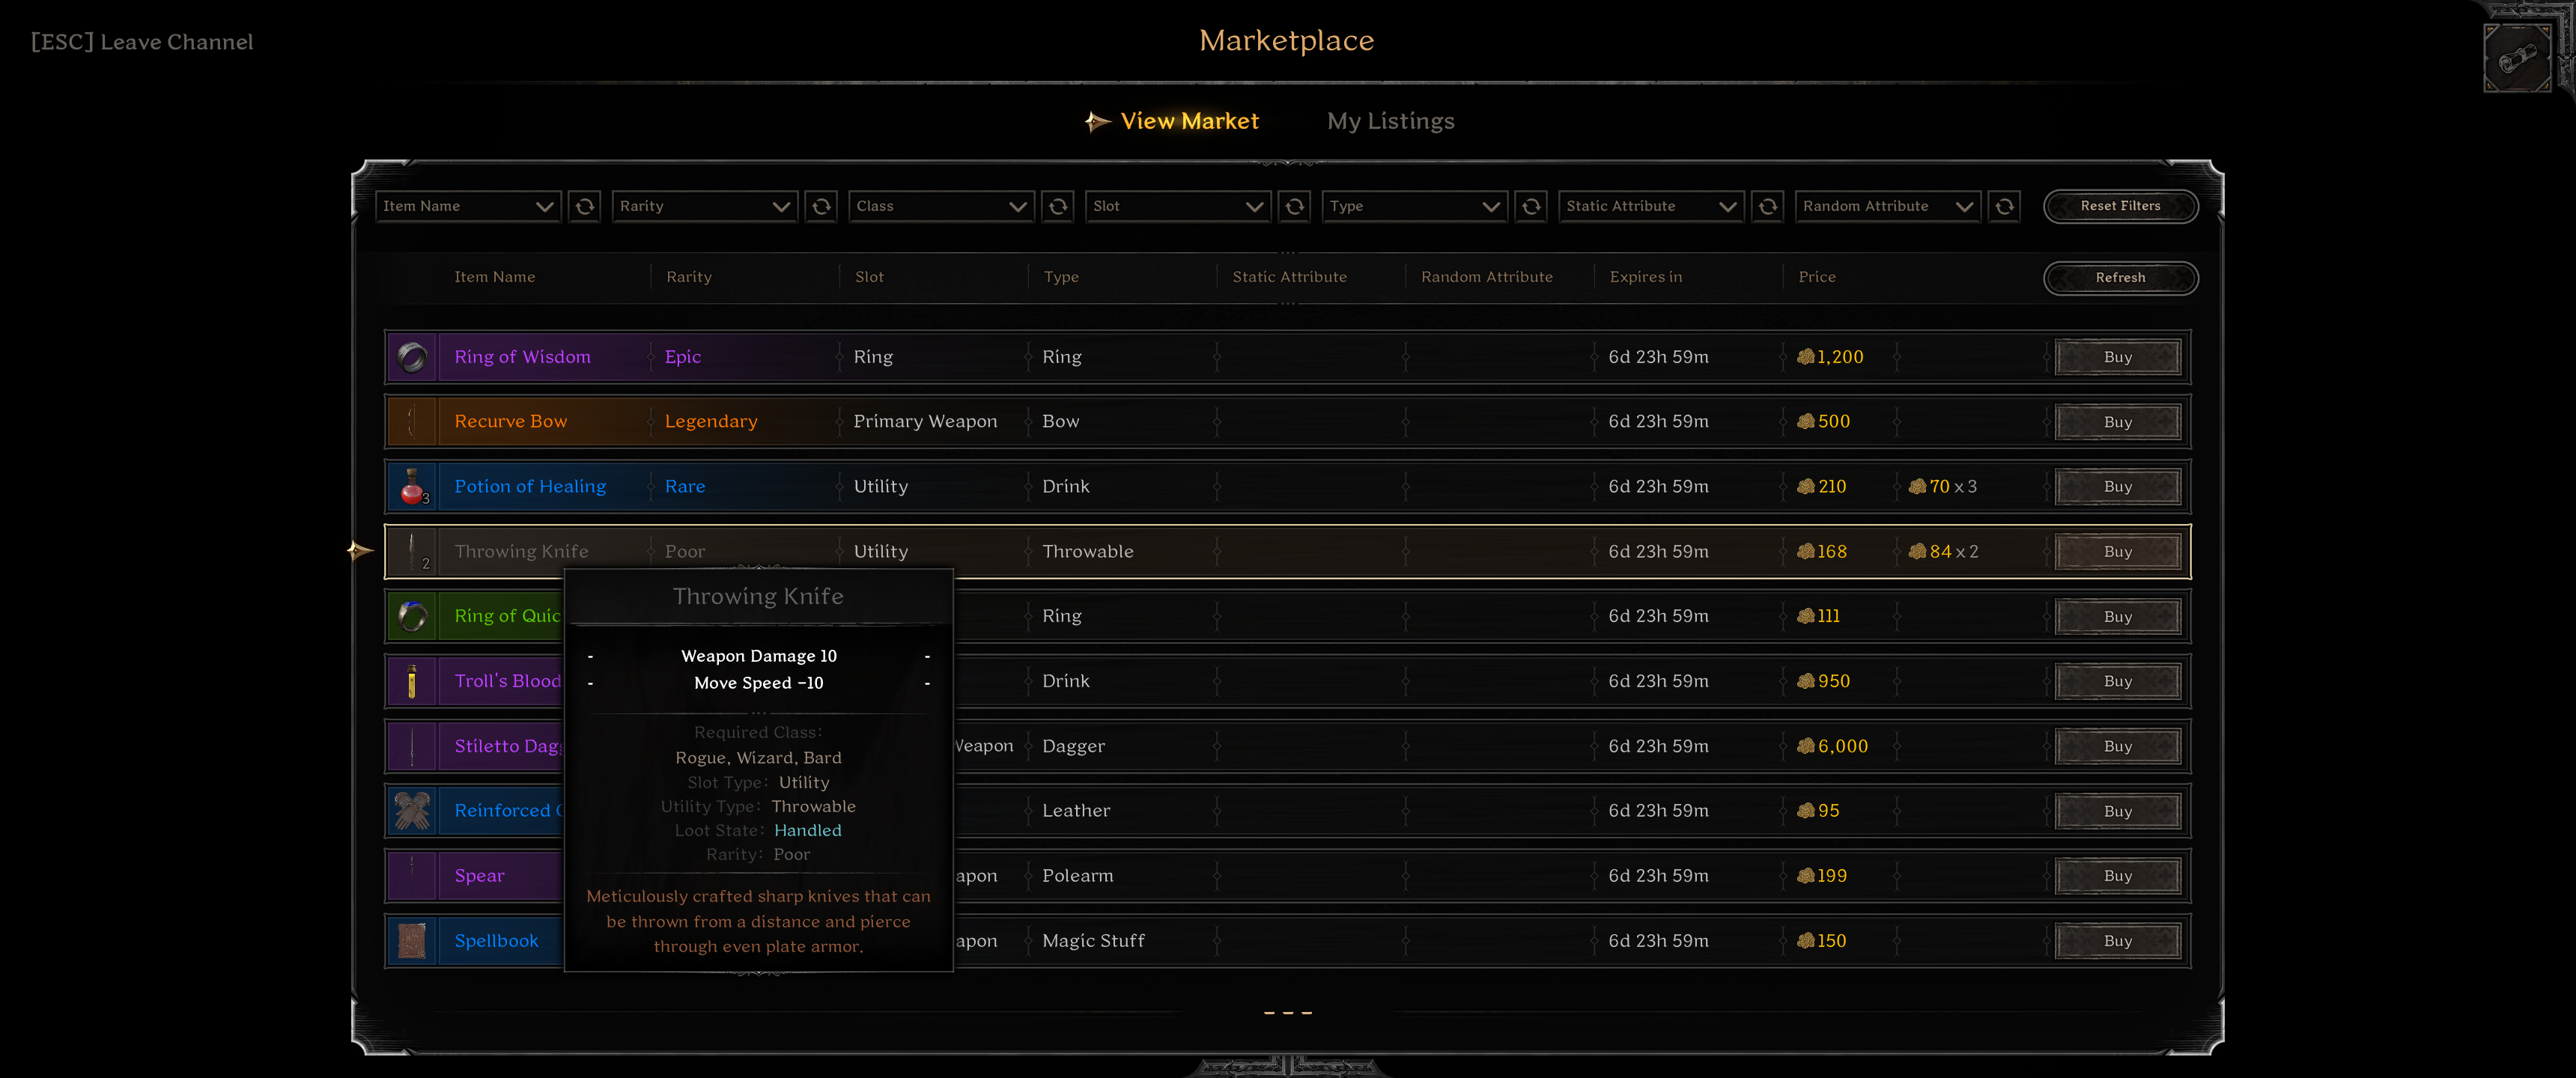Tooltip: (562, 565, 956, 974)
